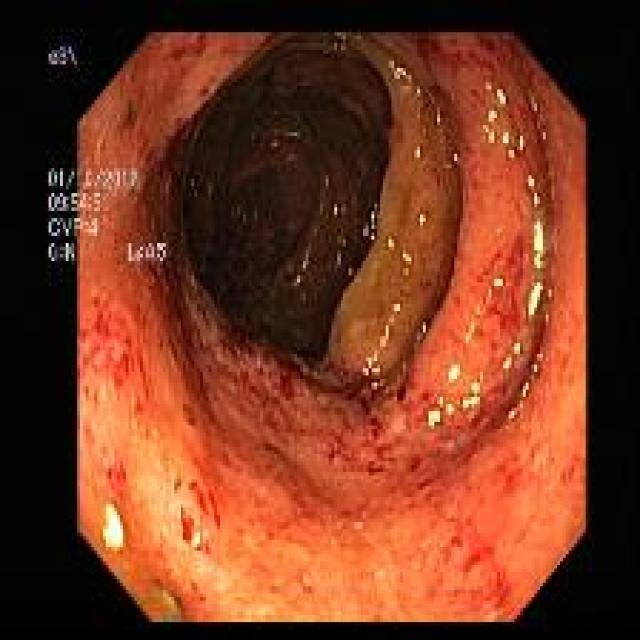ulcerative-colitis: (76, 33, 586, 622)
